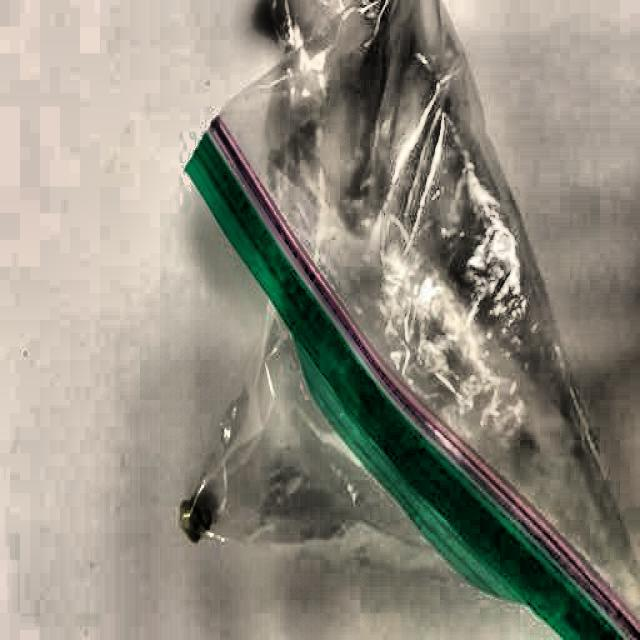plastic: (173, 3, 640, 624)
